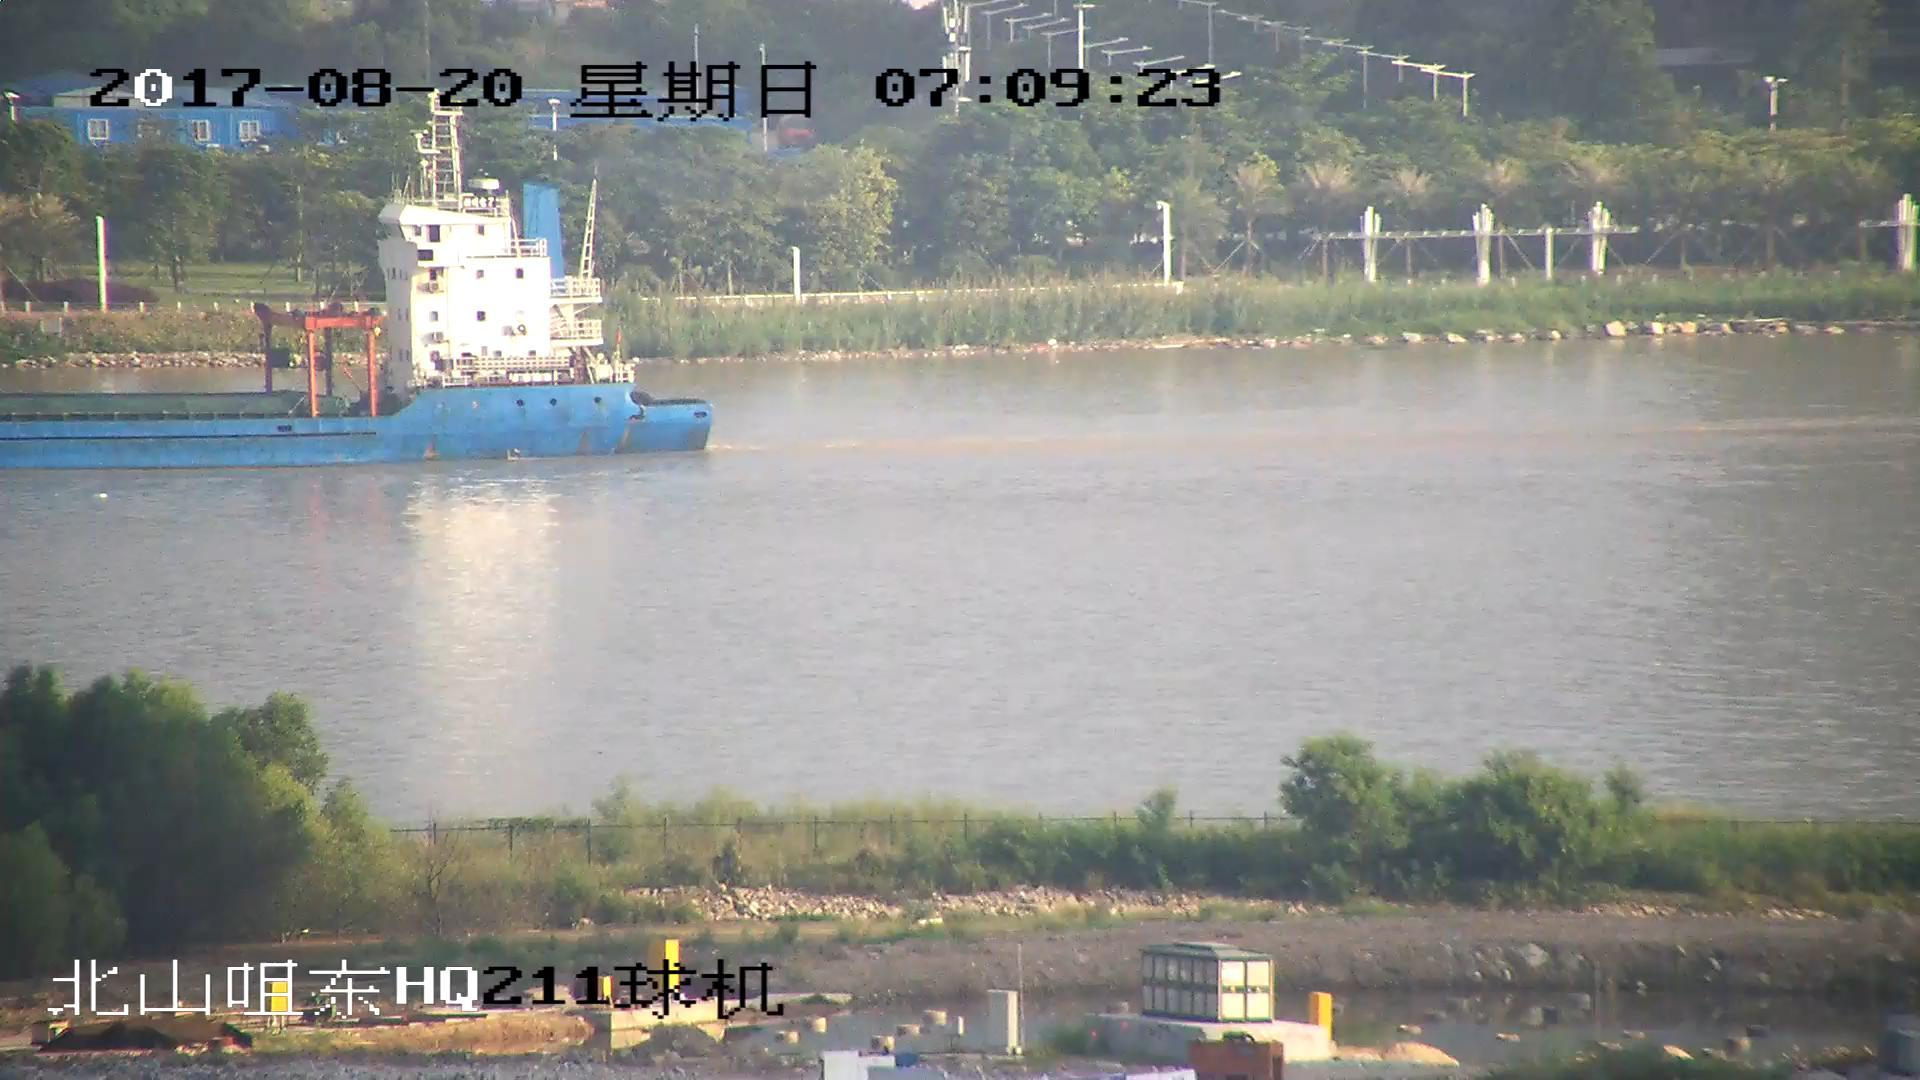Ship: (3, 137, 713, 471)
